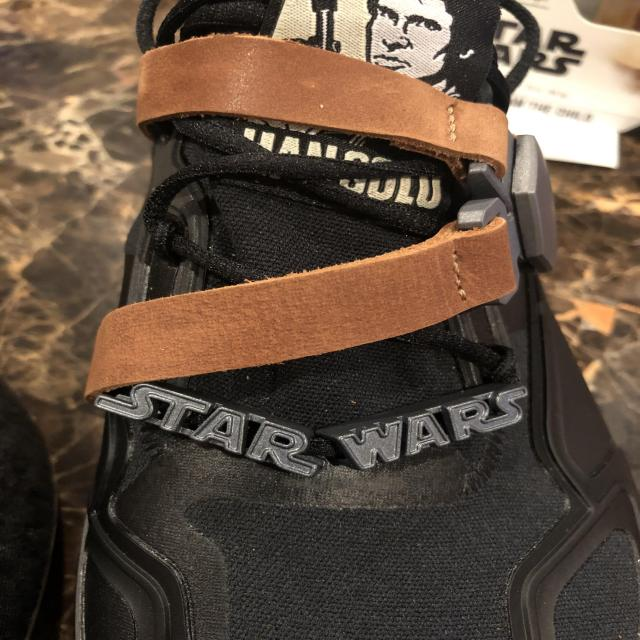shoes: (76, 0, 640, 640)
